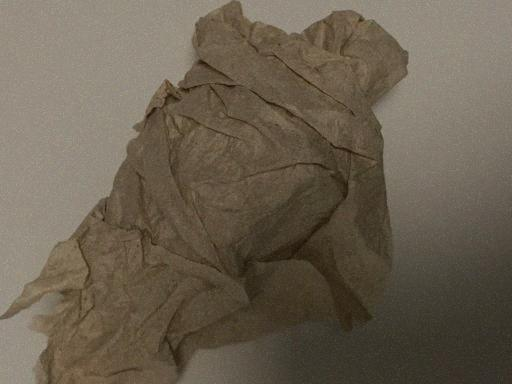trash: (3, 5, 411, 382)
